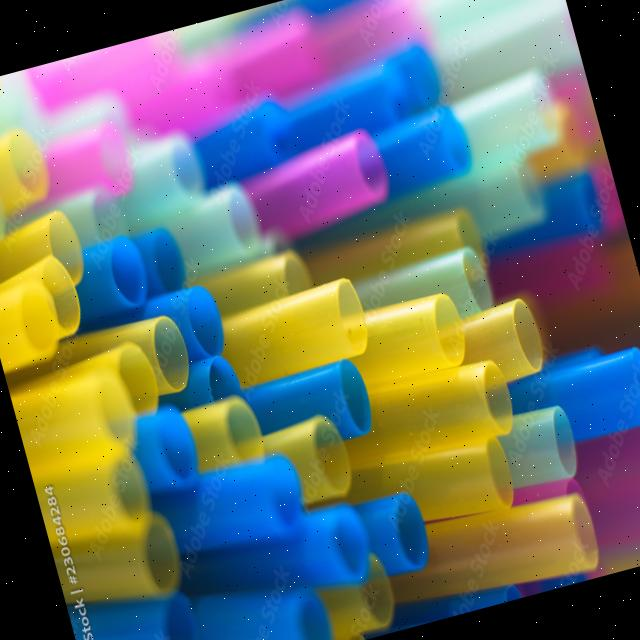plastic: (233, 111, 431, 254)
